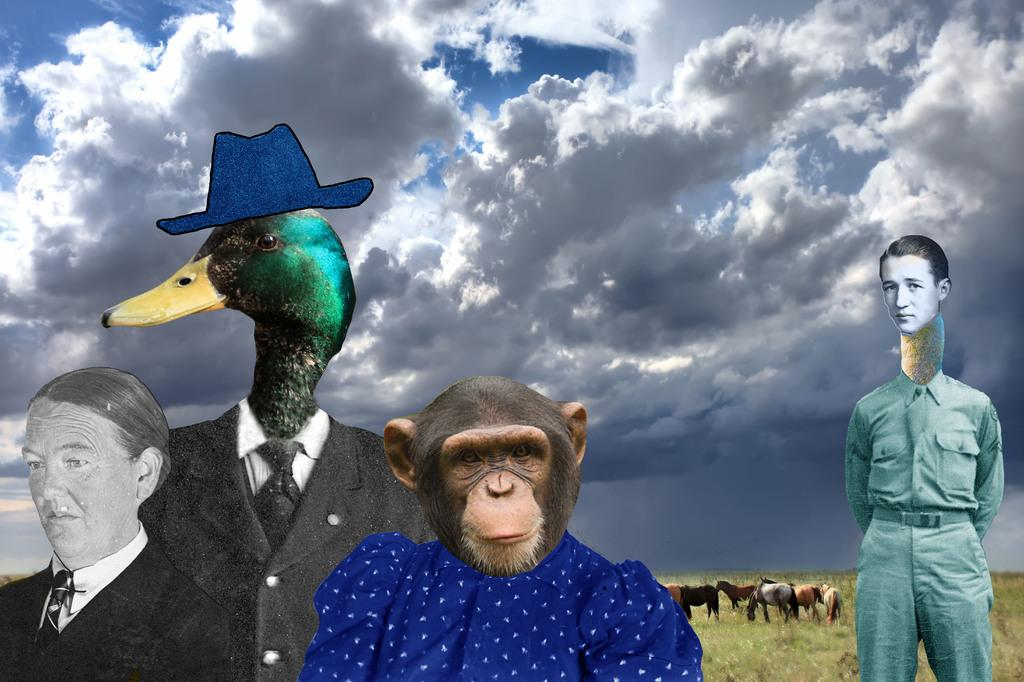Hat: (156, 119, 374, 235)
